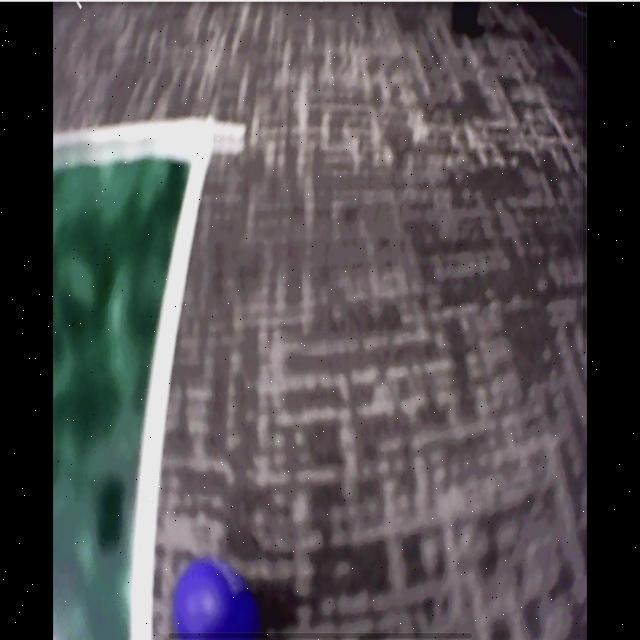ball: (174, 561, 257, 640)
